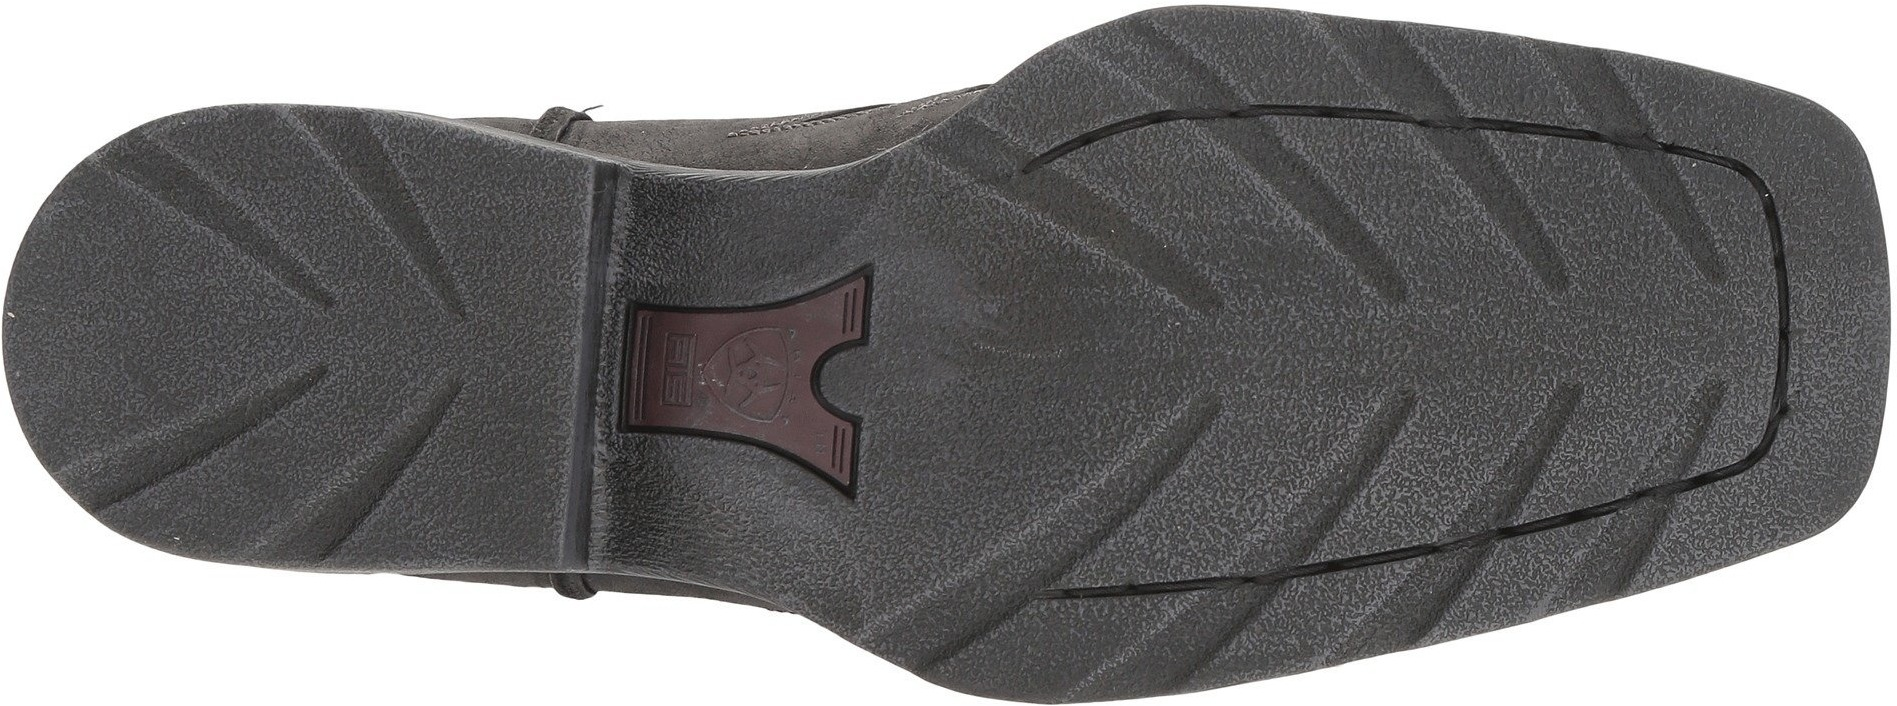exclude: (561, 158, 880, 640), (398, 1, 1011, 175), (397, 569, 820, 658)
line: (1115, 58, 1647, 572), (162, 147, 578, 546)
other: (878, 212, 1171, 484), (1614, 183, 1866, 426), (19, 250, 194, 418)
